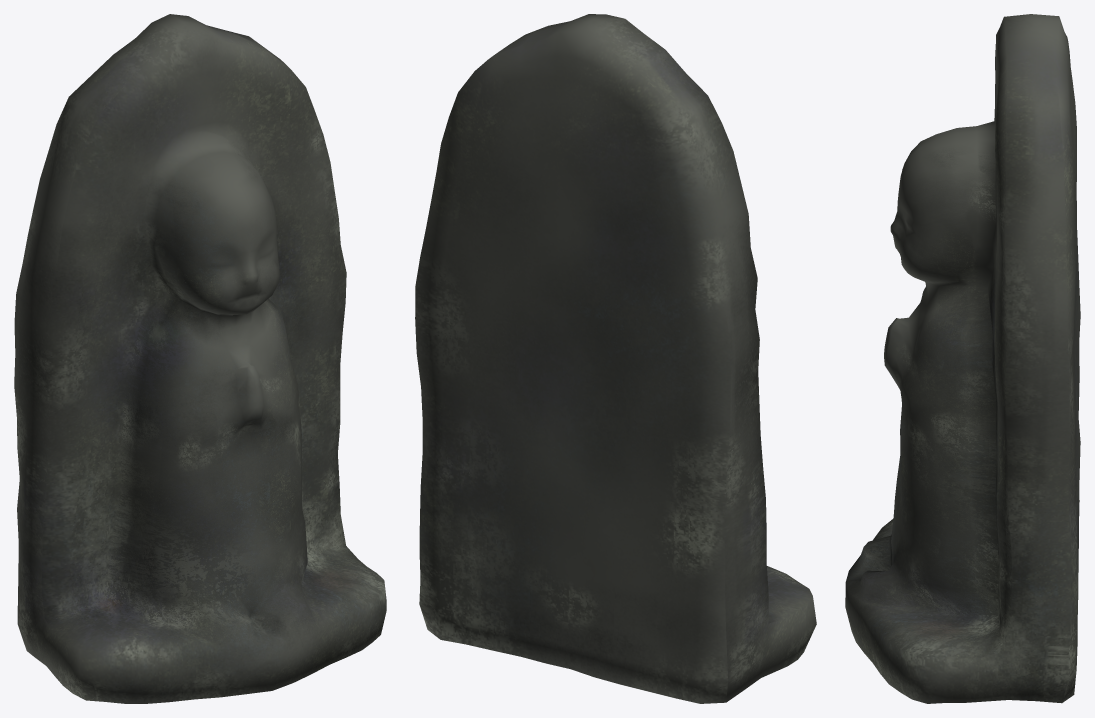
The model's file is Ozizoasama.fbx.
3 renders of one model, left to right at view 1: azimuth 30°, elevation 25°; view 2: azimuth 150°, elevation 25°; view 3: azimuth 270°, elevation 25°, orthographic. The views are drawn at different scales.
Parts seen in each view (by area): view 1: Retopo_Mesh; view 2: Retopo_Mesh; view 3: Retopo_Mesh.
Boxes of the visible parts, x1=… form: Retopo_Mesh: x1=14, y1=14, x2=386, y2=703; Retopo_Mesh: x1=415, y1=14, x2=816, y2=703; Retopo_Mesh: x1=845, y1=14, x2=1080, y2=703.
Bounding box in the file's own units: 51.1 × 94.95 × 32.89.
1 material, 1 textured.
